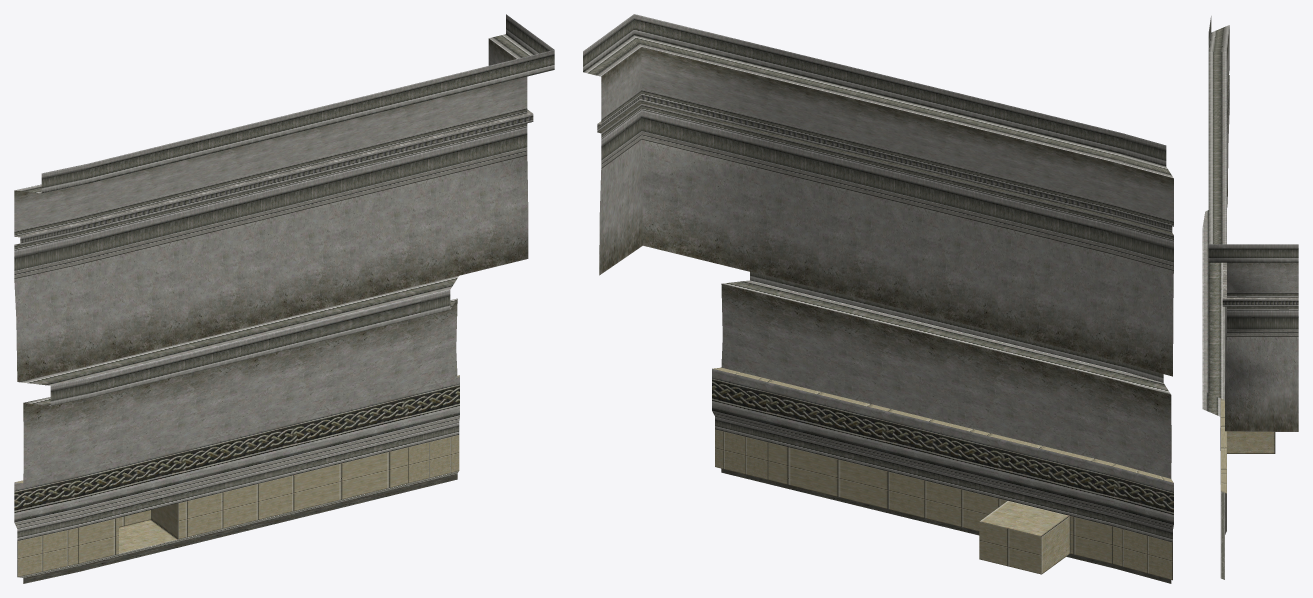
File: DWARF_PALACE_ARKENSTONE_ROOM_WALL01.fbx
3 views of the same model, side by side, from view 1: azimuth 30°, elevation 25°; view 2: azimuth 150°, elevation 25°; view 3: azimuth 270°, elevation 25° (orthographic). The views are drawn at different scales.
Parts seen in each view (by area): view 1: DWARF_PALACE_ARKENSTONE_ROOM_WALL01; view 2: DWARF_PALACE_ARKENSTONE_ROOM_WALL01; view 3: DWARF_PALACE_ARKENSTONE_ROOM_WALL01.
Boxes of the visible parts, bbox=[...] form: DWARF_PALACE_ARKENSTONE_ROOM_WALL01: bbox=[14, 14, 554, 583]; DWARF_PALACE_ARKENSTONE_ROOM_WALL01: bbox=[583, 14, 1173, 583]; DWARF_PALACE_ARKENSTONE_ROOM_WALL01: bbox=[1202, 16, 1298, 579].
Size of the model in its own units: 274960 by 205000 by 46993.
Materials: 8 (8 with a texture image).
